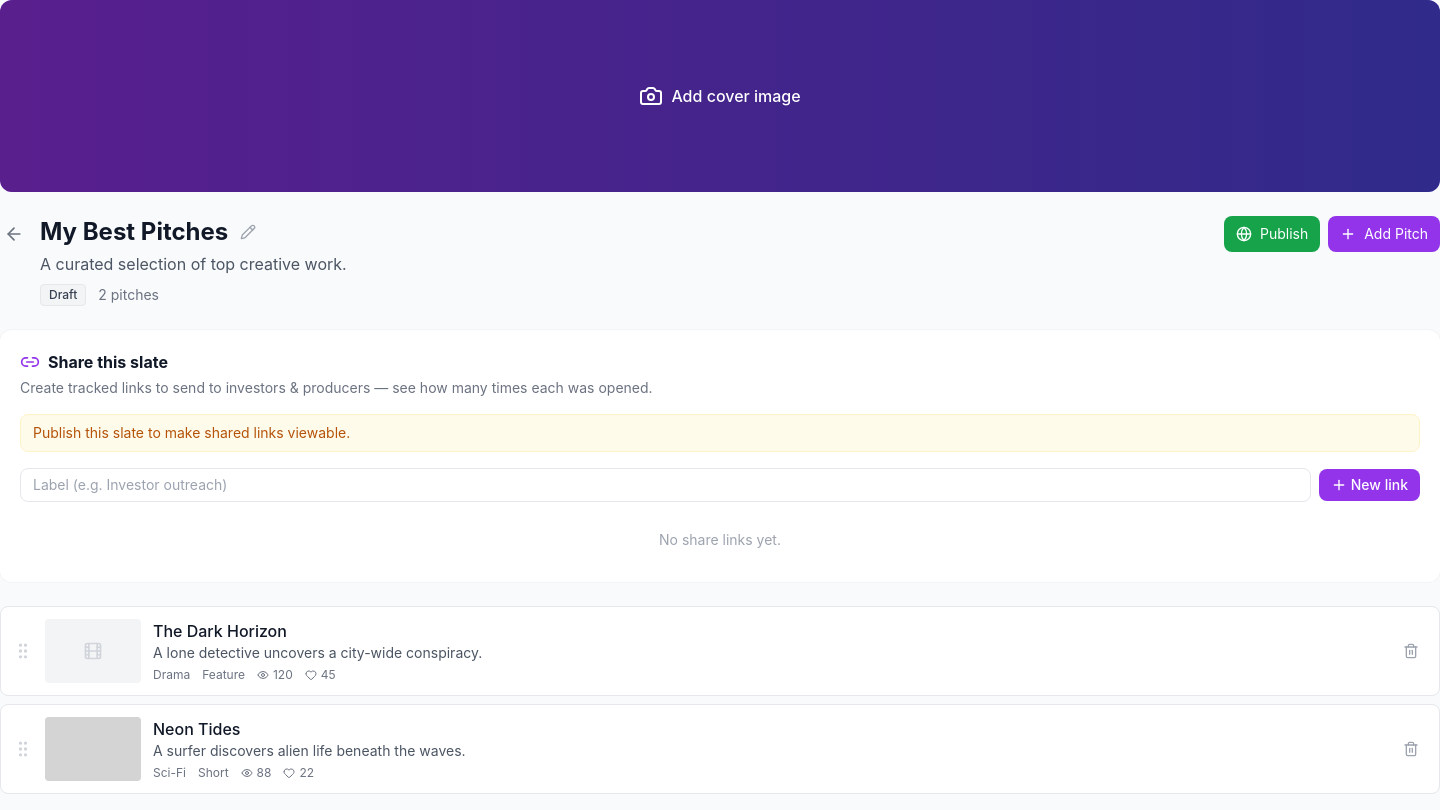
Test: CreatorSlateDetail › shows "No pitches found" when search returns empty results
Click the button "Add Pitch".
click(1384, 234)  # box [1328,216,1439,252]
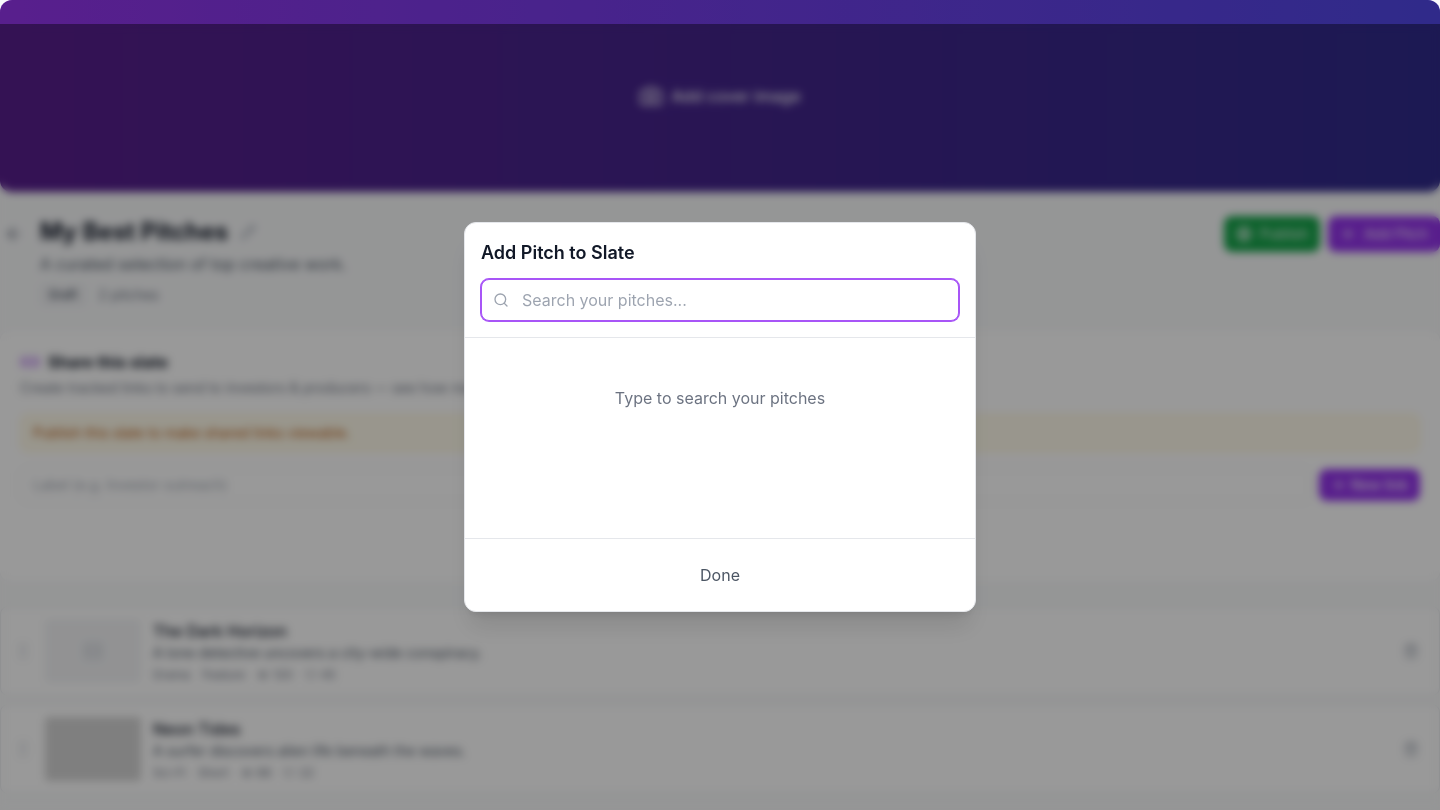
Type "nonexistent" into the field with placeholder "Search your pitches...".
click(720, 300); type("nonexistent")  # box [481,279,959,321]
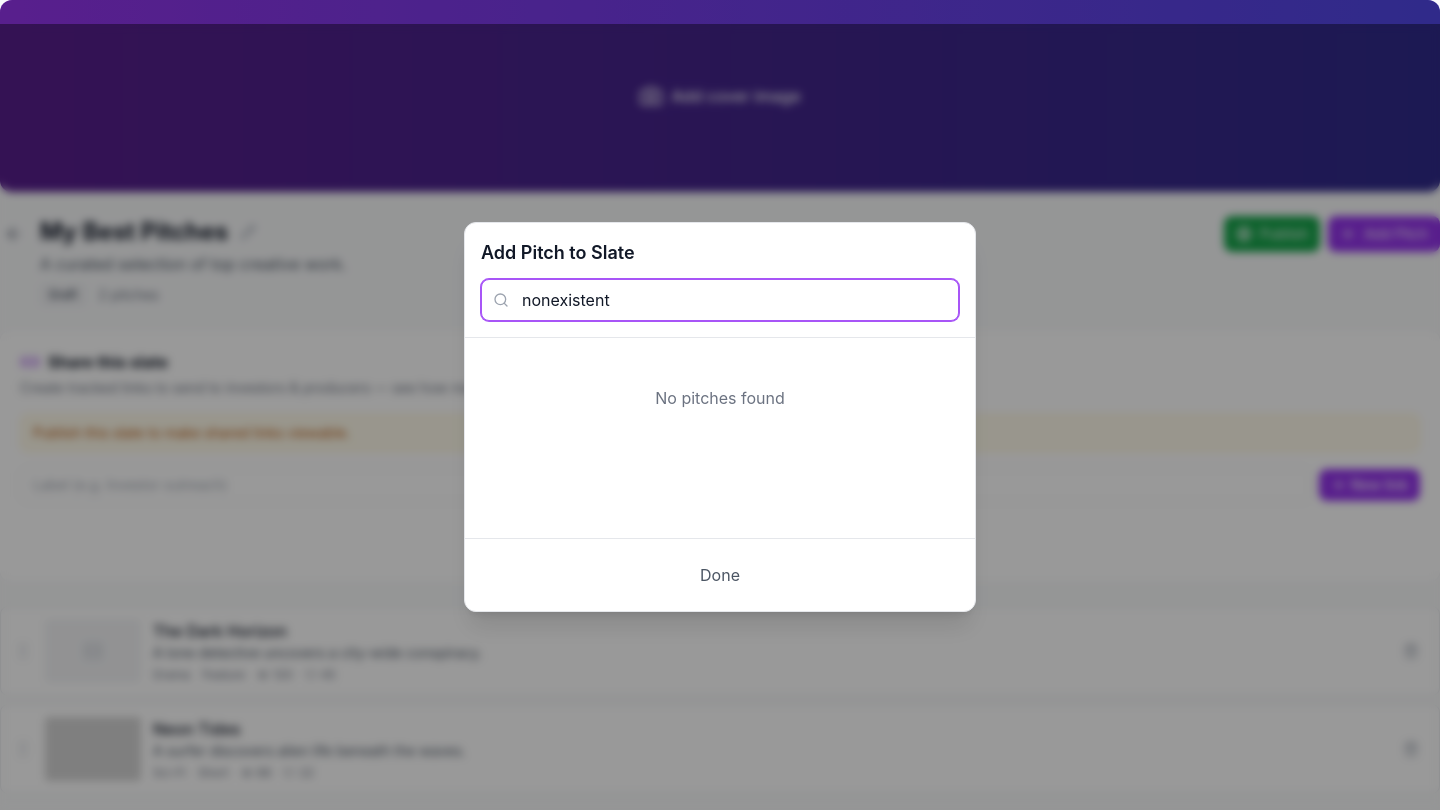
Now the text "No pitches found" is shown, box [655,388,785,408]
